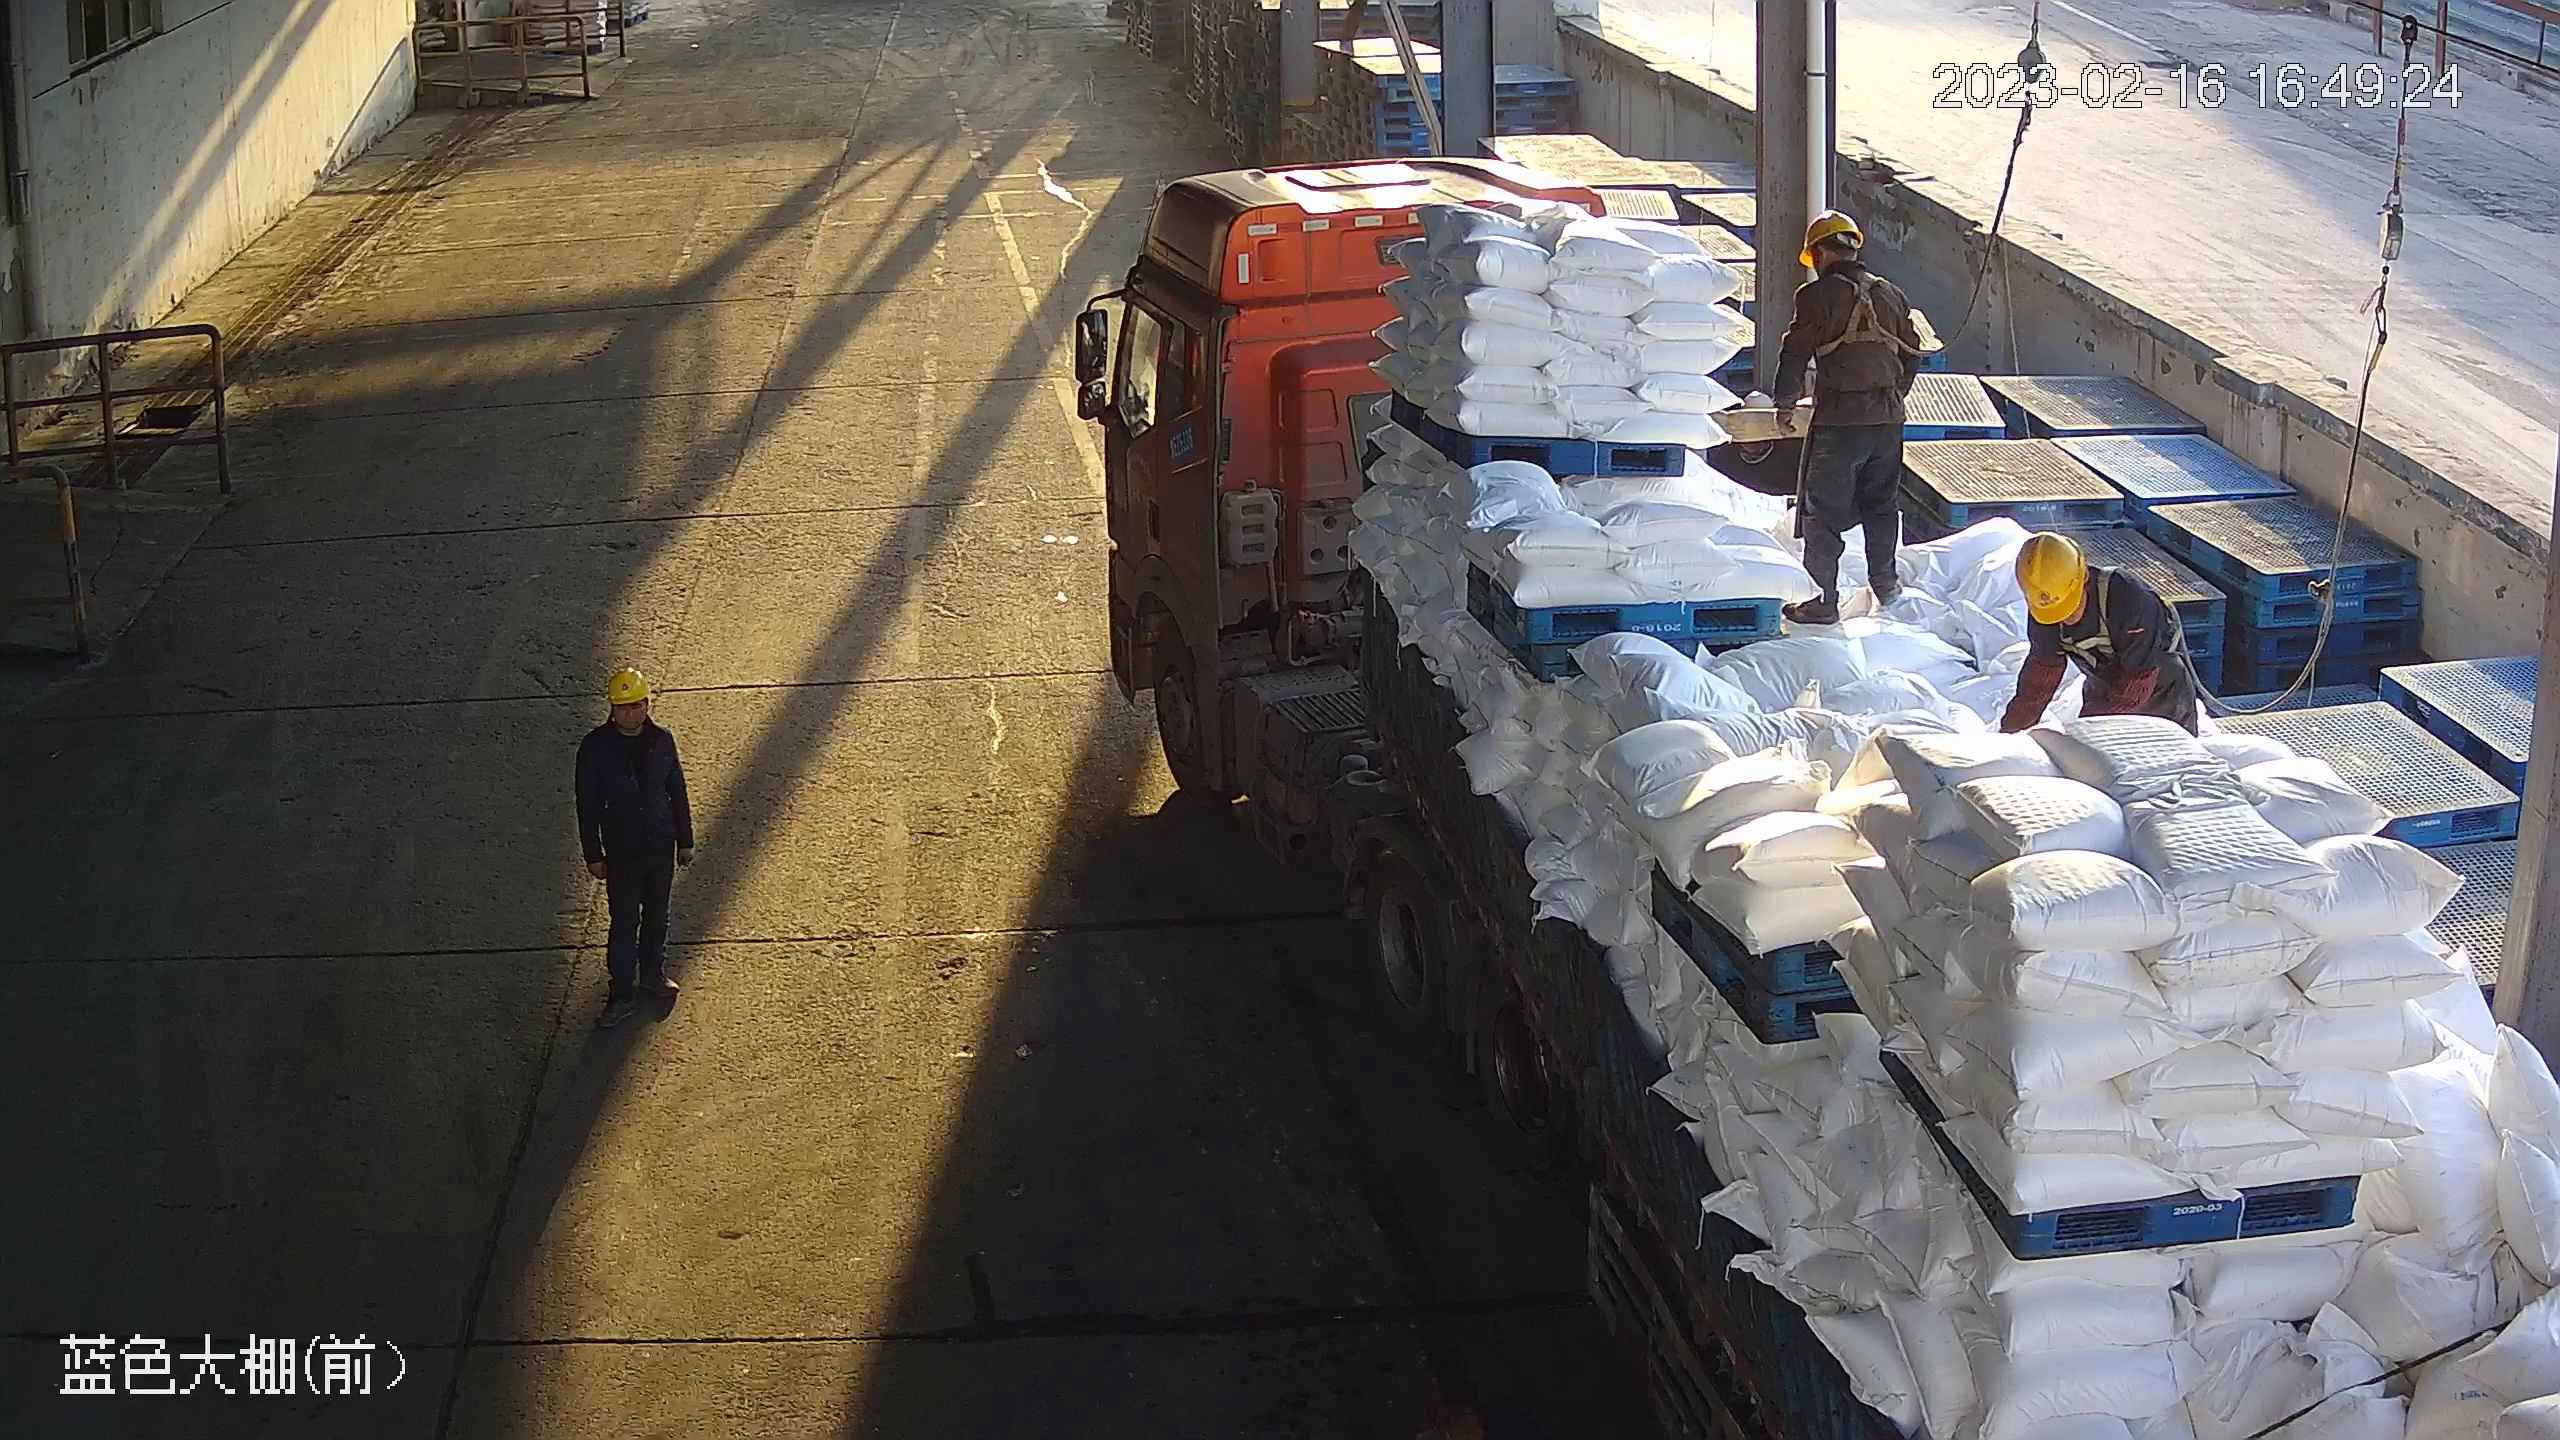belt: (2057, 564, 2188, 669), (1810, 270, 1912, 361)
head: (2015, 531, 2164, 639), (1789, 209, 1912, 327), (572, 668, 678, 767)
helmet: (2015, 530, 2085, 624), (1799, 209, 1863, 268)
people: (1771, 208, 1923, 625), (573, 666, 697, 1027), (1999, 530, 2199, 741)
truck: (1074, 155, 2560, 1440), (606, 668, 650, 704)
